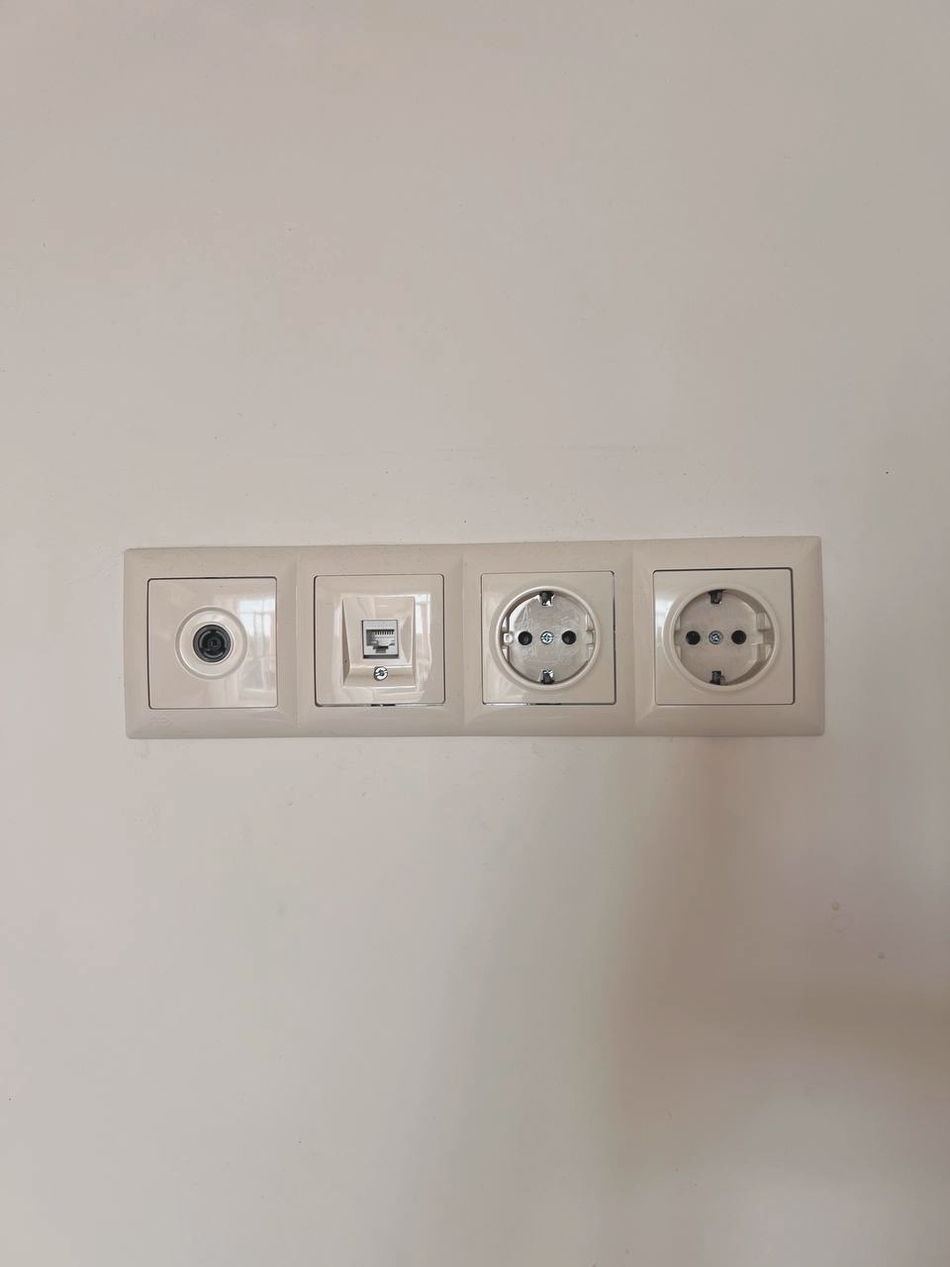Network Outlet: (335, 592, 434, 694)
Power Outlet: (660, 584, 792, 700), (487, 583, 606, 697)
TV Socket: (169, 601, 254, 691)
